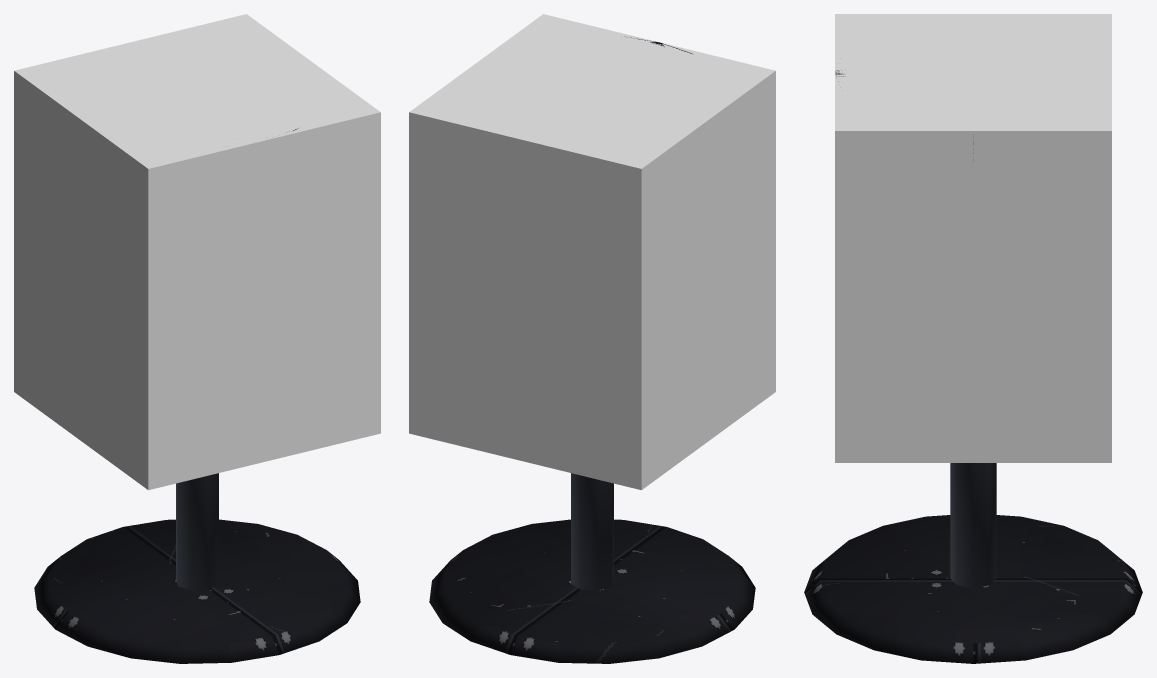
Rendered from Furn_Stool.gltf.
3 views of the same model, side by side, from view 1: azimuth 30°, elevation 25°; view 2: azimuth 150°, elevation 25°; view 3: azimuth 270°, elevation 25° (orthographic). The views are drawn at different scales.
Parts seen in each view (by area): view 1: Furn_Stool_COL, Furn_Stool; view 2: Furn_Stool_COL, Furn_Stool; view 3: Furn_Stool_COL, Furn_Stool.
Part boxes in pixels (x1,y1,x2,y2): Furn_Stool_COL: (14,14,380,490); Furn_Stool: (34,128,360,663); Furn_Stool_COL: (409,14,775,490); Furn_Stool: (429,36,755,663); Furn_Stool_COL: (835,14,1111,462); Furn_Stool: (804,70,1142,663).
Size of the model in its own units: 0.44 by 0.745 by 0.44.
Materials: 3 (1 with a texture image).
